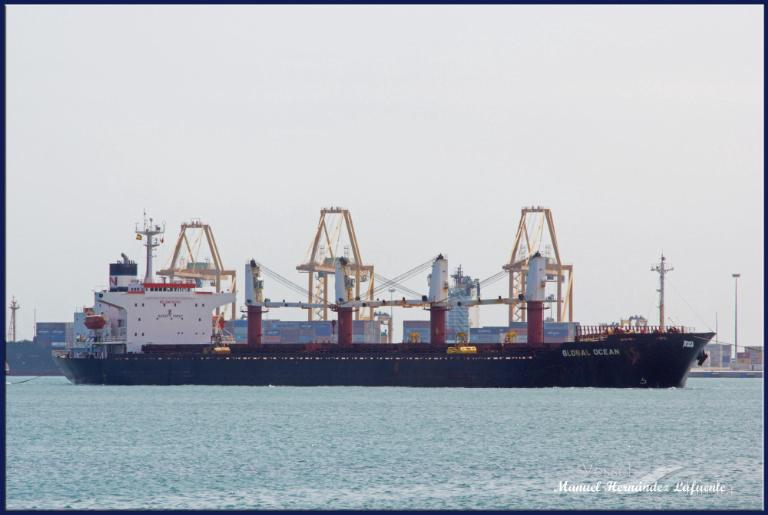OCR: (552, 343, 626, 367)
